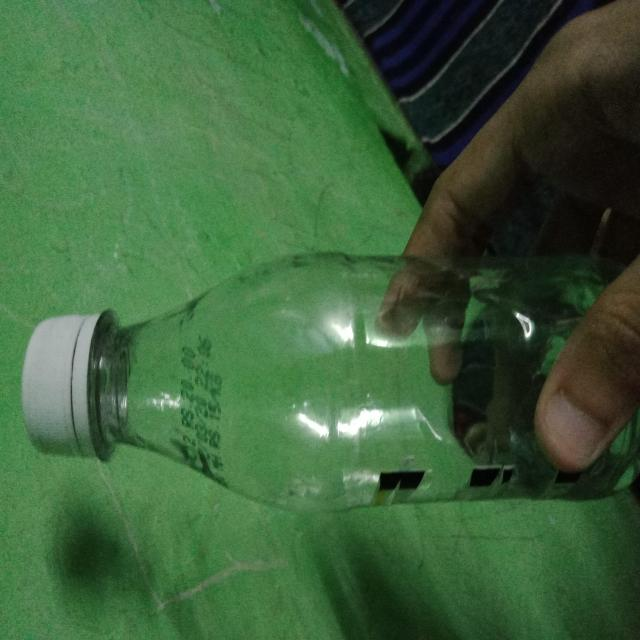bottle: (14, 251, 640, 524)
